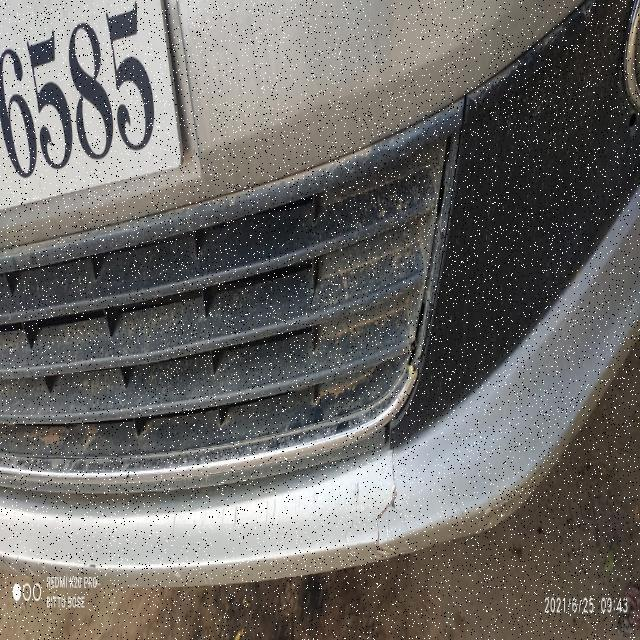front-bumper-dent: (98, 4, 558, 592)
